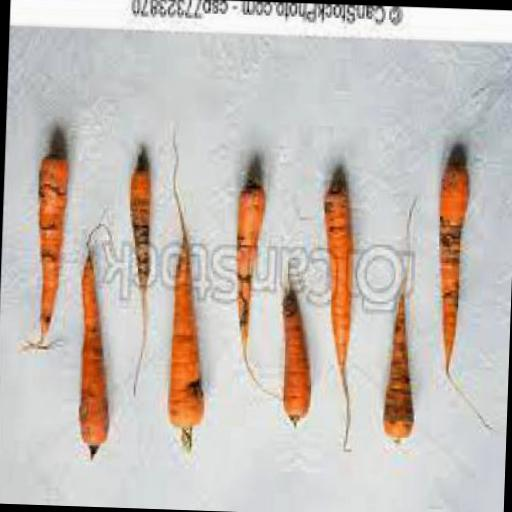biodegradable: (168, 227, 210, 456), (76, 249, 118, 464), (434, 162, 472, 378), (318, 178, 356, 382), (124, 158, 156, 400), (32, 156, 66, 351), (382, 286, 419, 448), (235, 178, 266, 356), (277, 291, 313, 430)
